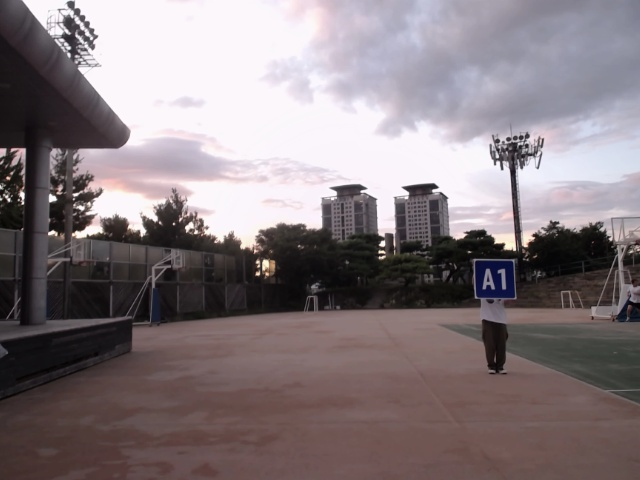delivery_a1: (474, 260, 516, 299)
